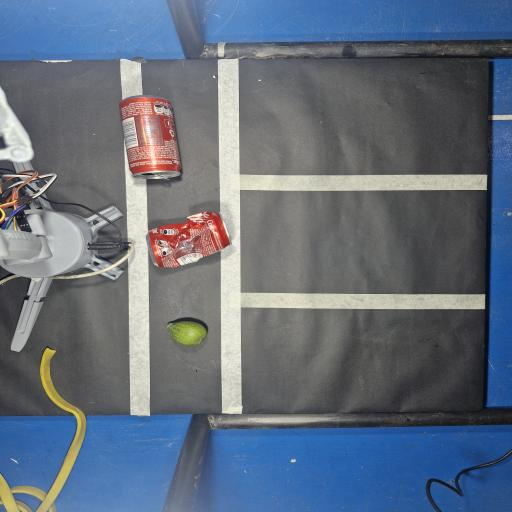higo: (167, 321, 207, 346)
lata: (119, 96, 181, 179)
lata_defectuoso: (146, 212, 230, 267)
